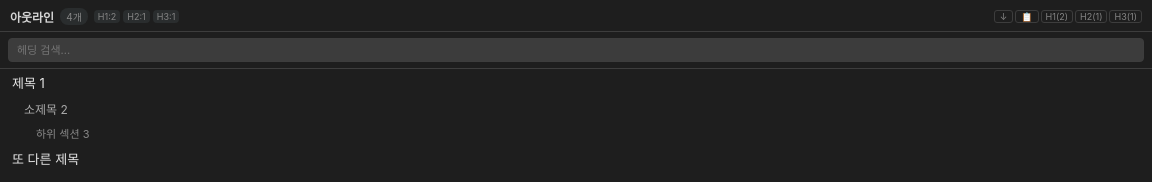
Test: OutlinePanel › H1 필터 버튼 재클릭 시 필터가 해제된다
Click the button titled "H1만 보기": (1057, 16) [1040, 10, 1073, 23]
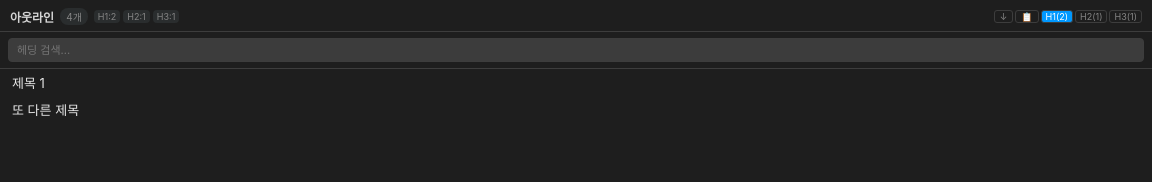
Click the button titled "H1만 보기": (1057, 16) [1040, 10, 1073, 23]
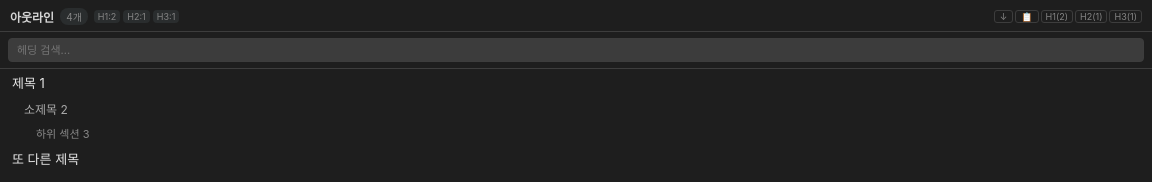
expect the text "소제목 2" is shown: met, box [24, 102, 68, 117]
